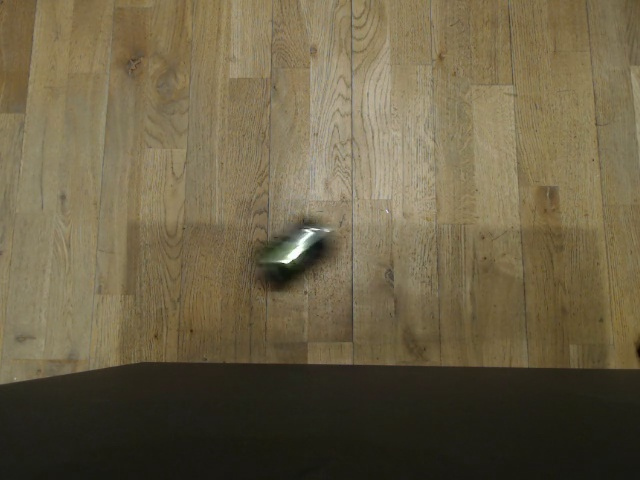beer: (253, 210, 338, 297)
